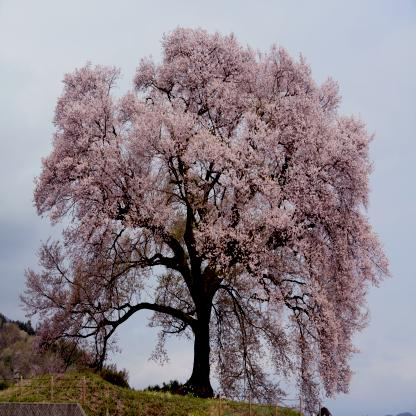EdohiganSakura: (20, 25, 394, 416)
